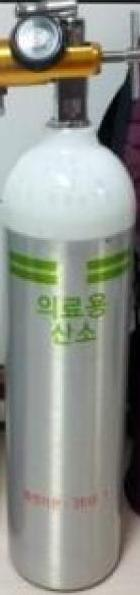cylinder: (0, 1, 140, 595)
